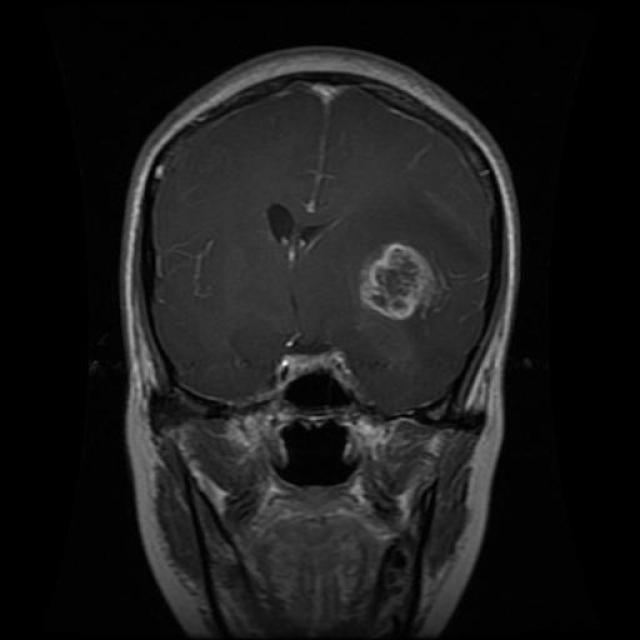glioma: (362, 240, 432, 320)
